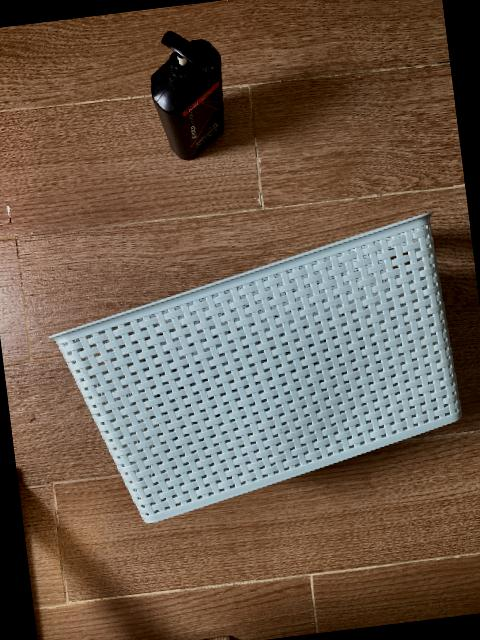cart: (53, 212, 462, 525)
